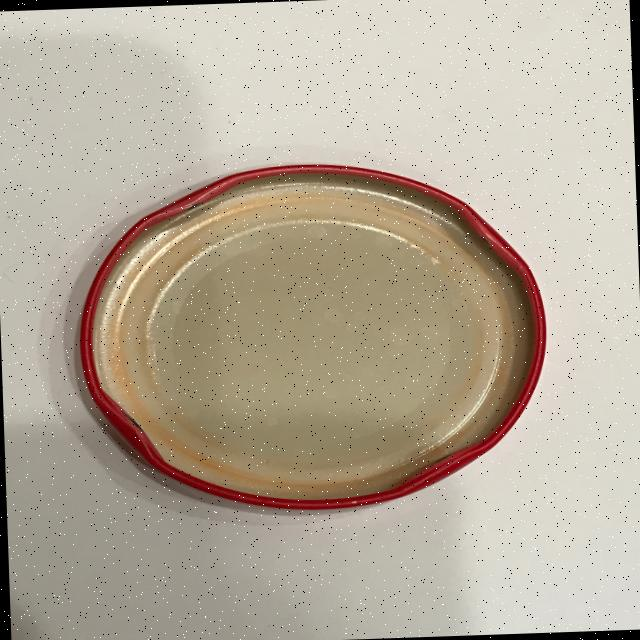metal: (71, 154, 552, 518)
